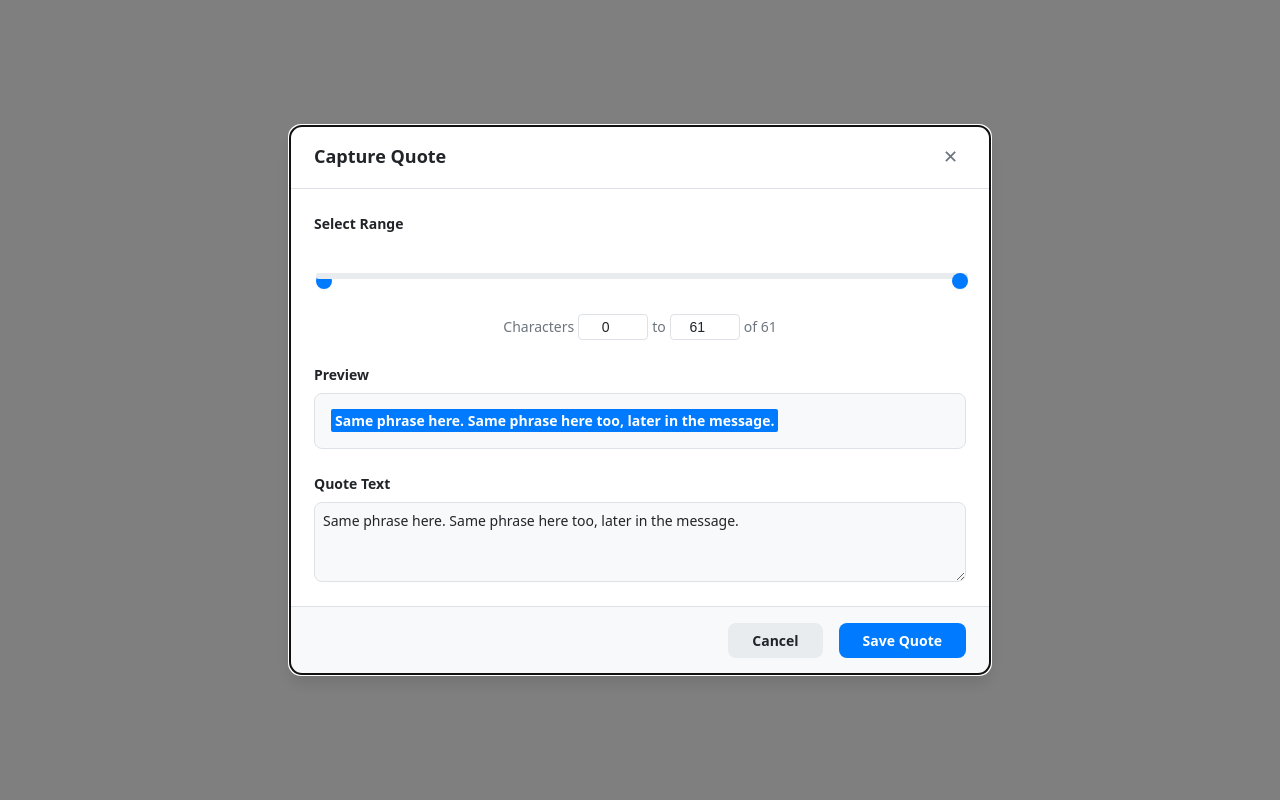
QuoteCaptureModal — save re-derives start/end from the final text › rejects an edit that matches the source message ambiguously, without persisting a quote or keeping the stale range
Step 1. Replace the text in the text box with placeholder "Edit the quote text here..." with "Same phrase here" → (640, 542), box left=314, top=502, right=966, bottom=582
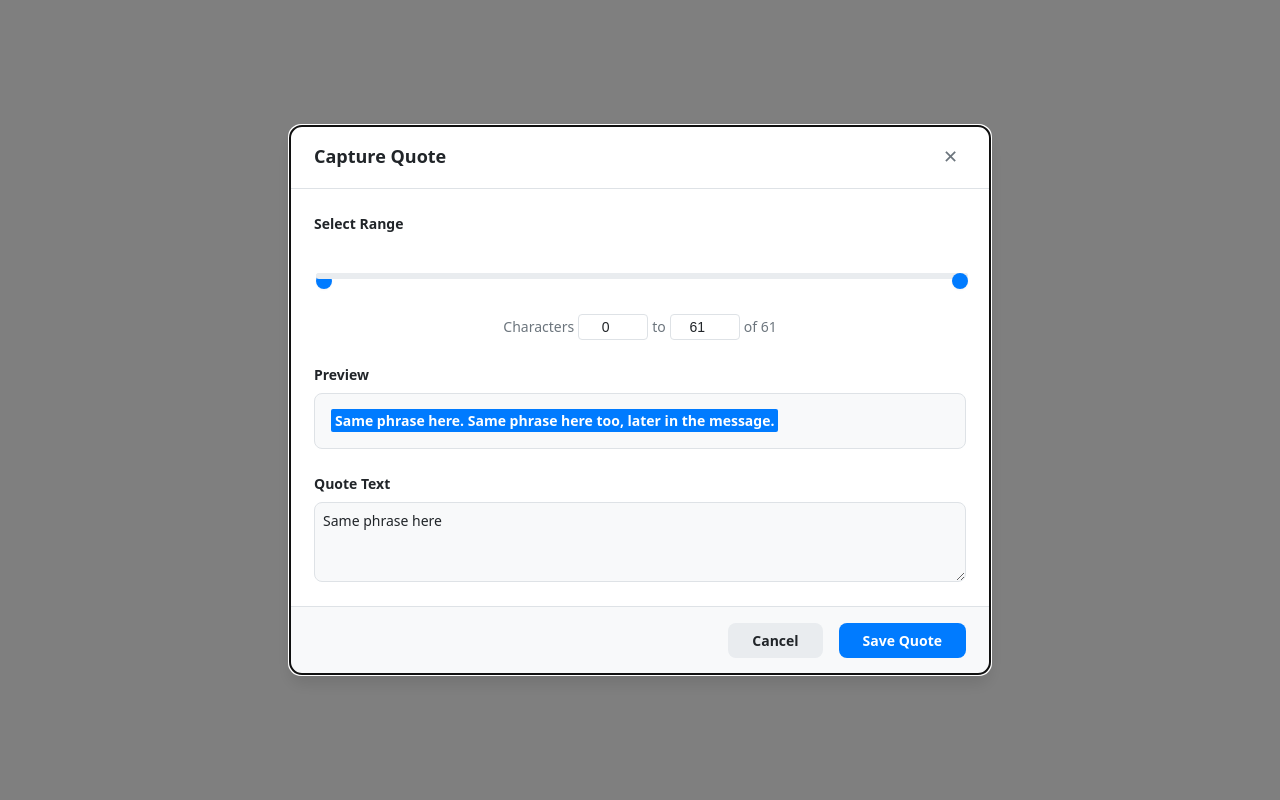
Step 2. Click the button "Save Quote" → (902, 641), box left=839, top=623, right=966, bottom=658
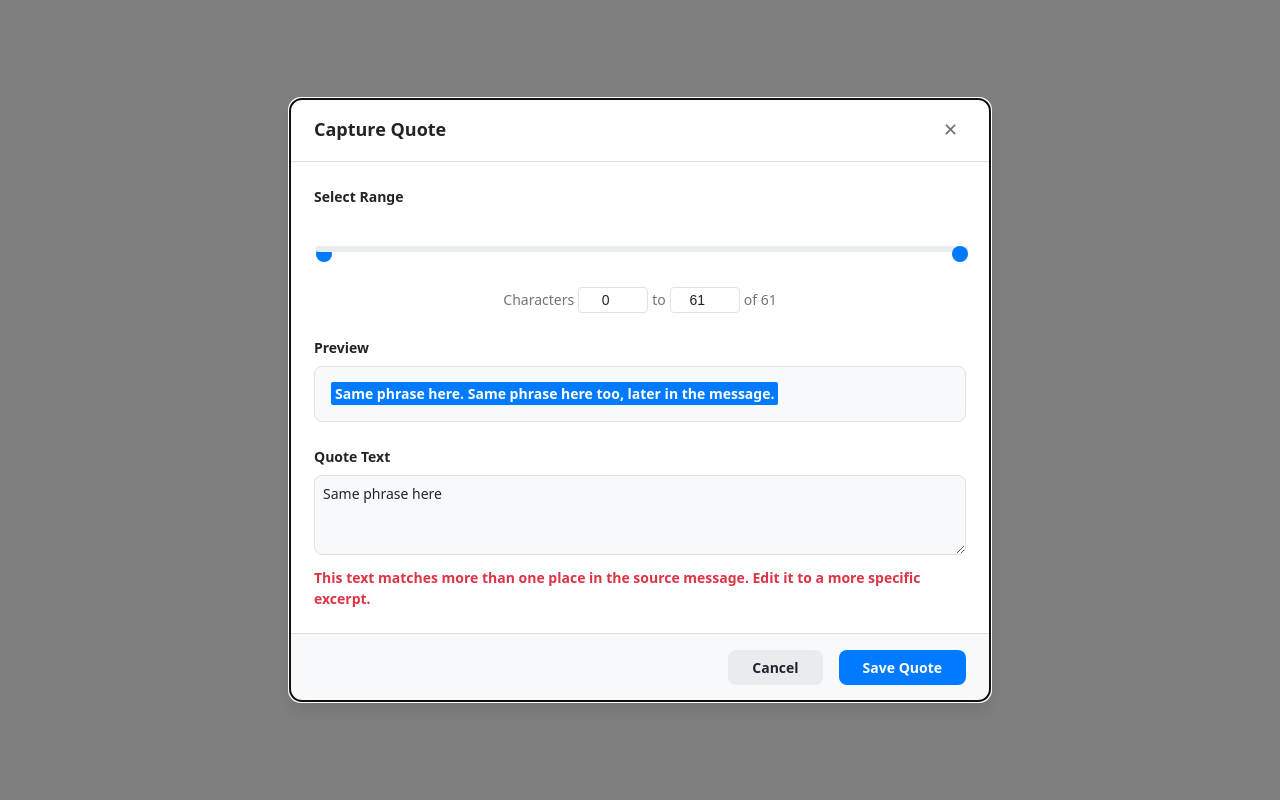
Expected: the text "matches more than one place" is shown, left=314, top=568, right=920, bottom=608
